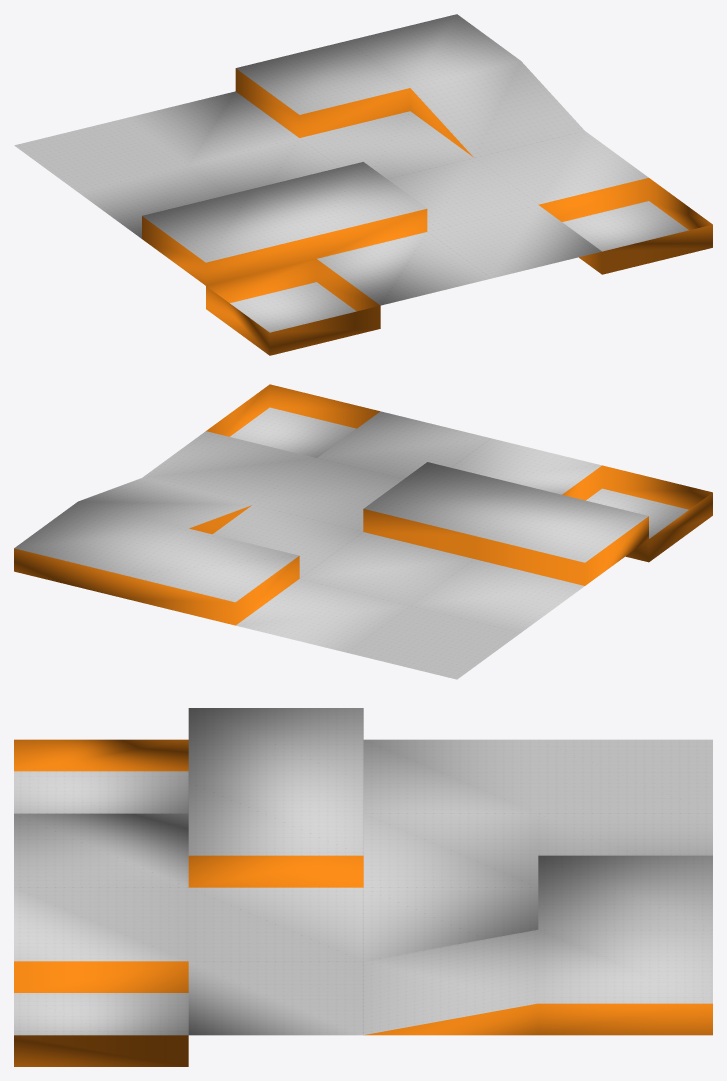
The model's file is DevPlayground.fbx.
The picture shows the model from 3 angles, top to bottom: view 1: azimuth 30°, elevation 25°; view 2: azimuth 150°, elevation 25°; view 3: azimuth 270°, elevation 25°; orthographic projection. The views are drawn at different scales.
Parts seen in each view (by area): view 1: Plane; view 2: Plane; view 3: Plane.
Part boxes in pixels (x1,y1,x2,y2): Plane: (14,14,712,355); Plane: (14,384,712,679); Plane: (14,708,712,1066).
Bounding box in the file's own units: 200 × 20 × 200.
